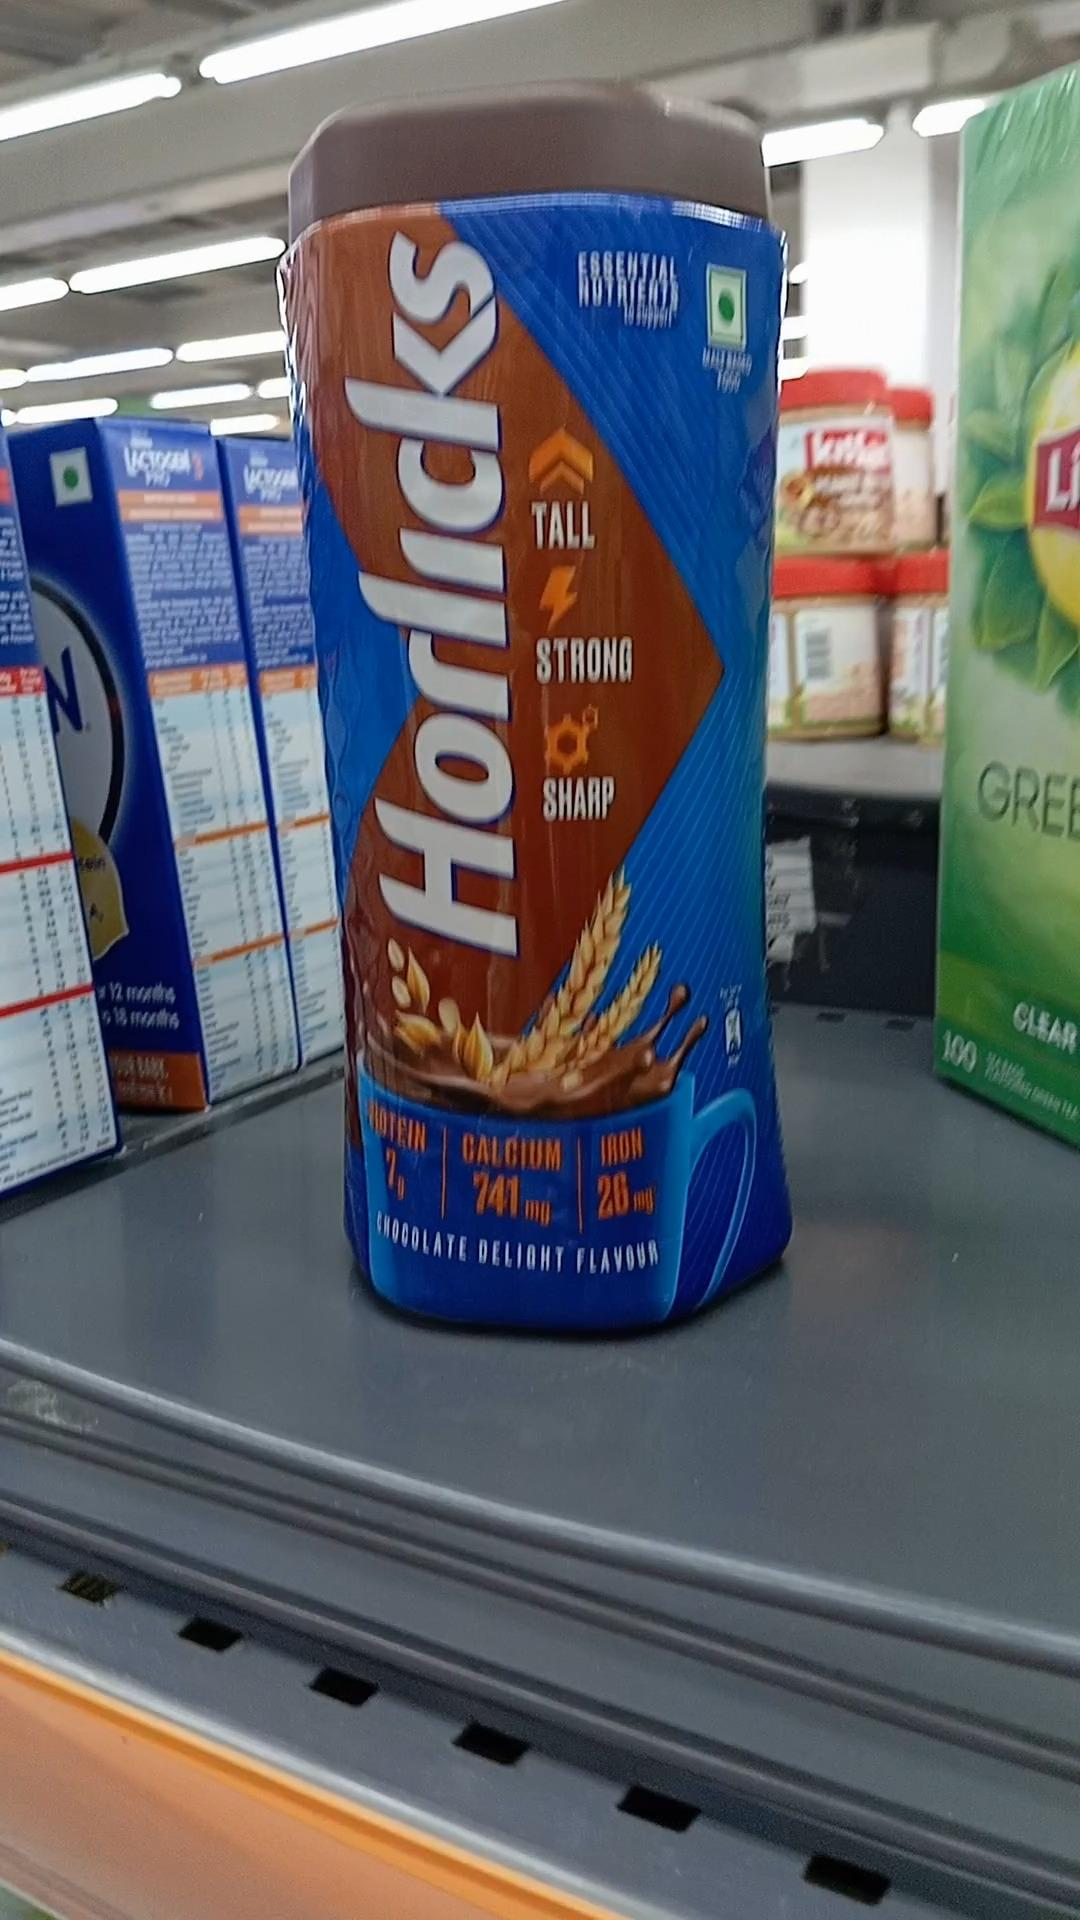HORLICK_CHOCOLATE_1_KG_JAR: (282, 103, 789, 1336)
